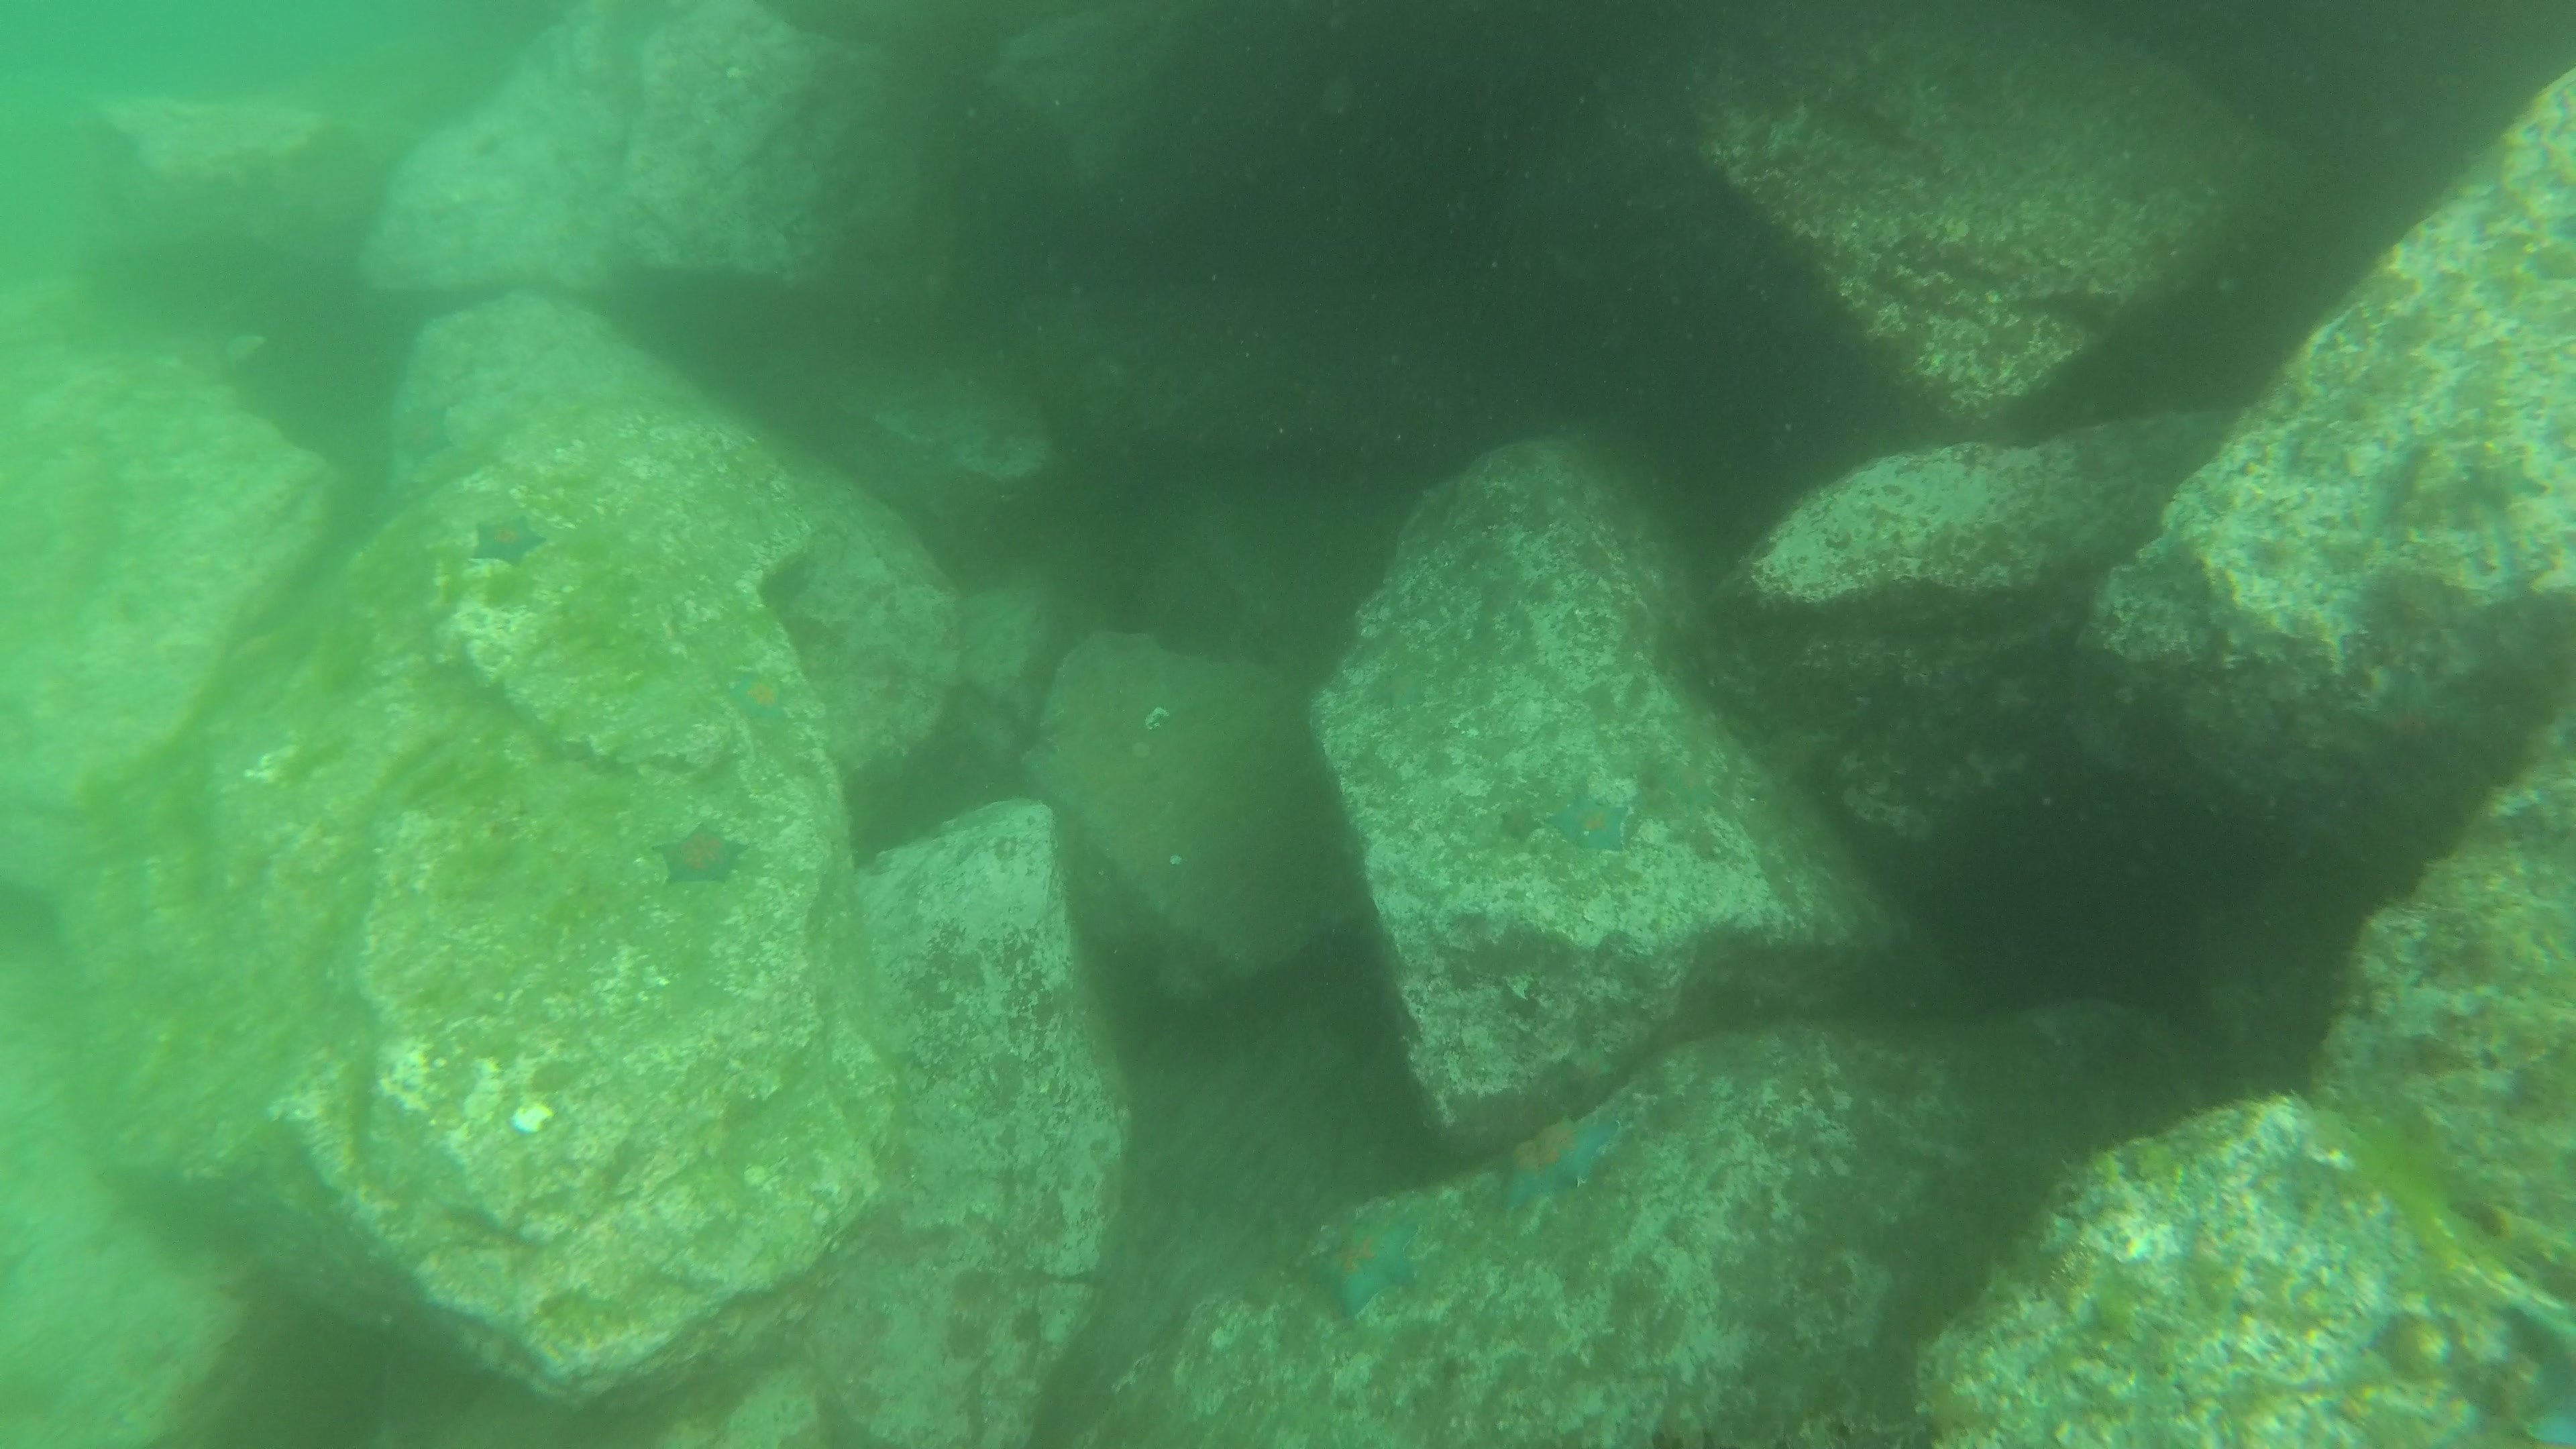starfish: (1309, 1212, 1422, 1322), (1497, 1113, 1622, 1207), (648, 824, 750, 890), (1548, 791, 1635, 855), (727, 662, 801, 725), (460, 515, 541, 570)
